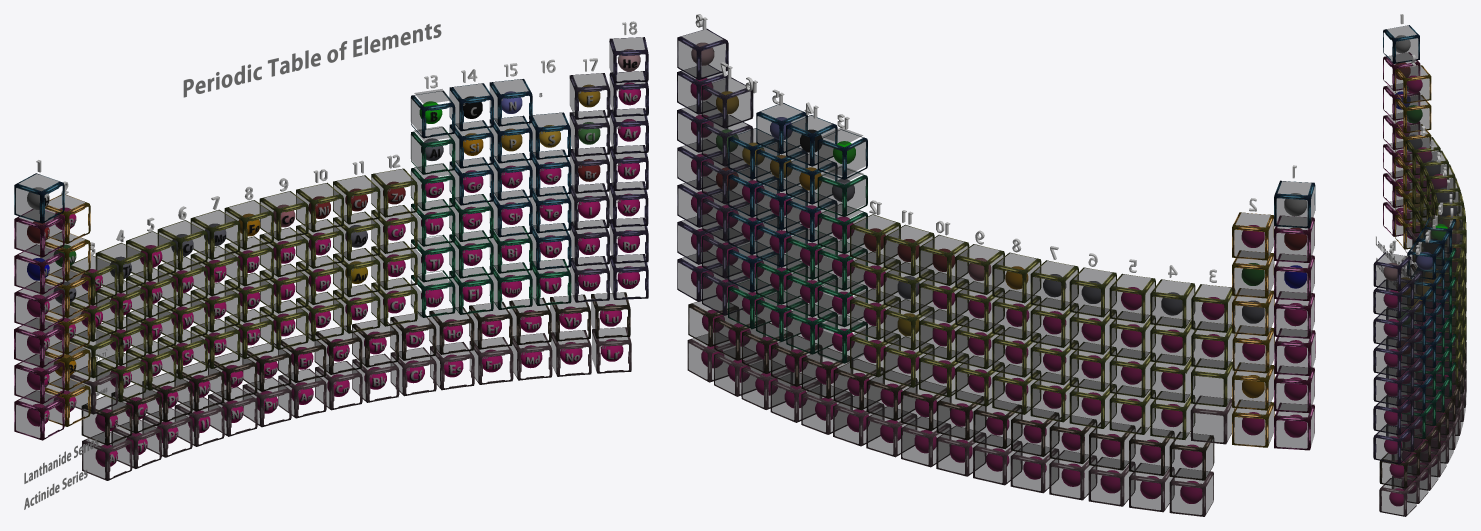
File: Periodic table.gltf
3 views of the same model, side by side, from view 1: azimuth 30°, elevation 25°; view 2: azimuth 150°, elevation 25°; view 3: azimuth 270°, elevation 25° (orthographic). The views are drawn at different scales.
Visible parts, largest first — view 1: Atom_Box_1, Atom_Box_Plane, Atom1, Periodic_Name, Atomic_Num; view 2: Atom_Box_Plane, Atom_Box_1, Atom1; view 3: Atom_Box_Plane, Atom_Box_1, Atom1, Periodic_Name, Atom6.
Part boxes in pixels (<box>): Atom_Box_1: <box>14,37,648,480</box>; Atom_Box_Plane: <box>16,37,645,478</box>; Atom1: <box>27,49,640,466</box>; Periodic_Name: <box>24,24,441,509</box>; Atomic_Num: <box>39,55,622,441</box>; Atom_Box_Plane: <box>678,29,1315,514</box>; Atom_Box_1: <box>677,28,1315,516</box>; Atom1: <box>690,42,1306,503</box>; Atom_Box_Plane: <box>1375,25,1466,514</box>; Atom_Box_1: <box>1373,25,1466,516</box>; Atom1: <box>1383,35,1460,506</box>; Periodic_Name: <box>1376,236,1408,277</box>; Atom6: <box>1425,238,1441,255</box>.
Bounding box in the file's own units: 42.31 × 23.87 × 6.72.
20 materials, 18 textured.
